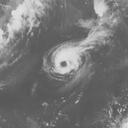cyclone: (42, 0, 123, 84)
